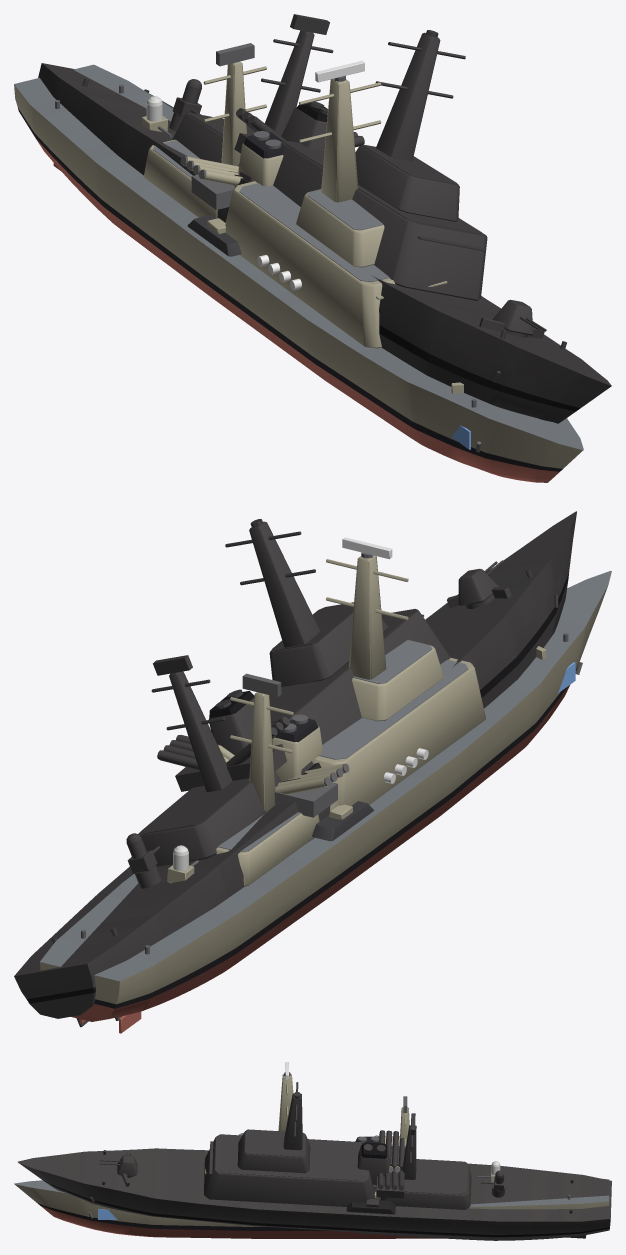
File: missileBoat__azmat_class.glb
3 renders of one model, top to bottom at view 1: azimuth 30°, elevation 25°; view 2: azimuth 150°, elevation 25°; view 3: azimuth 270°, elevation 25°, orthographic. The views are drawn at different scales.
Visible parts, largest first — view 1: Hull_Mesh, Wreck, Radar_Mesh; view 2: Hull_Mesh, Wreck; view 3: Wreck, Hull_Mesh.
Part boxes in pixels (<box>): Hull_Mesh: <box>14,43,583,482</box>; Wreck: <box>38,14,611,423</box>; Radar_Mesh: <box>315,60,364,82</box>; Hull_Mesh: <box>39,555,611,1033</box>; Wreck: <box>14,511,576,1027</box>; Wreck: <box>18,1082,611,1240</box>; Hull_Mesh: <box>14,1074,609,1238</box>.
Size of what is drawn, in the model's own units: 13.93 by 20.44 by 65.95.
